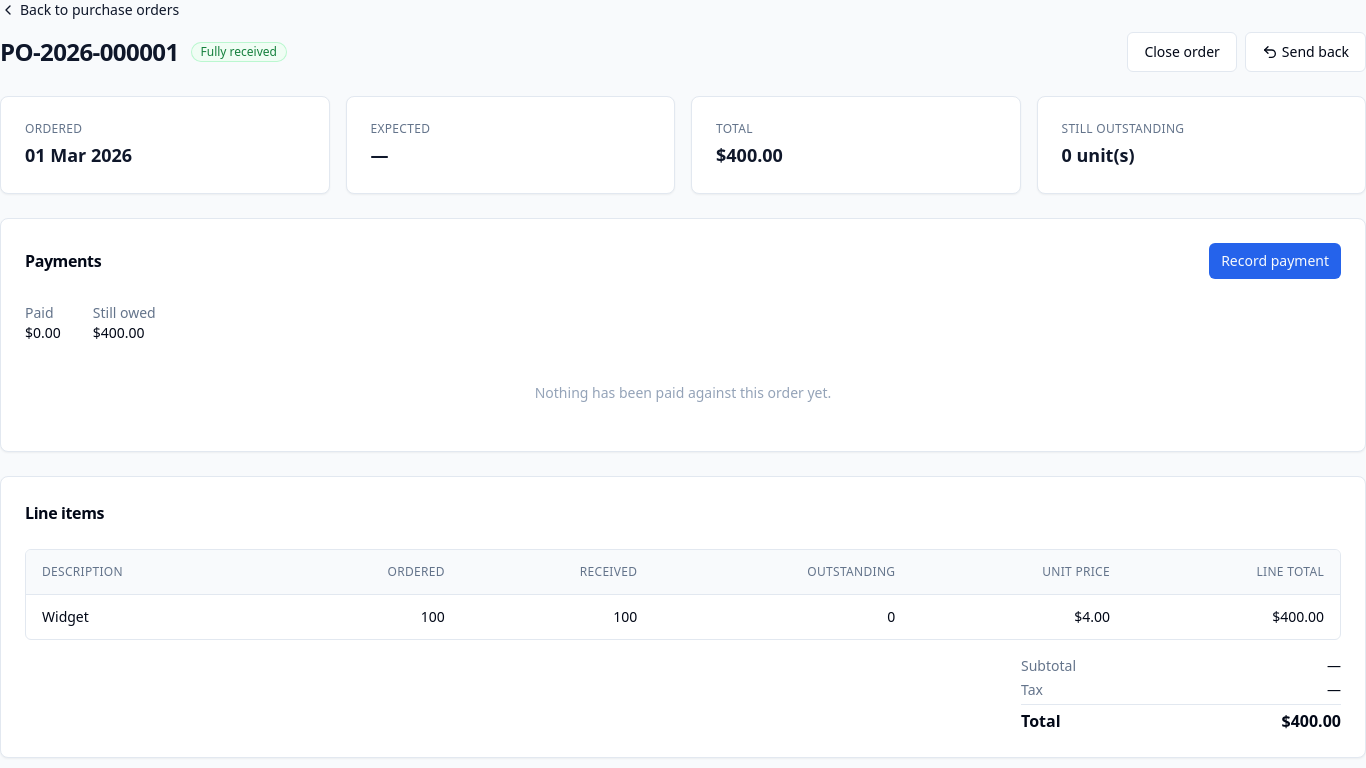
Scenario: sending goods back › starts at zero rather than pre-filling the whole delivery
Click the button "Send back": (1305, 52) top-left (1245, 32), bottom-right (1365, 72)
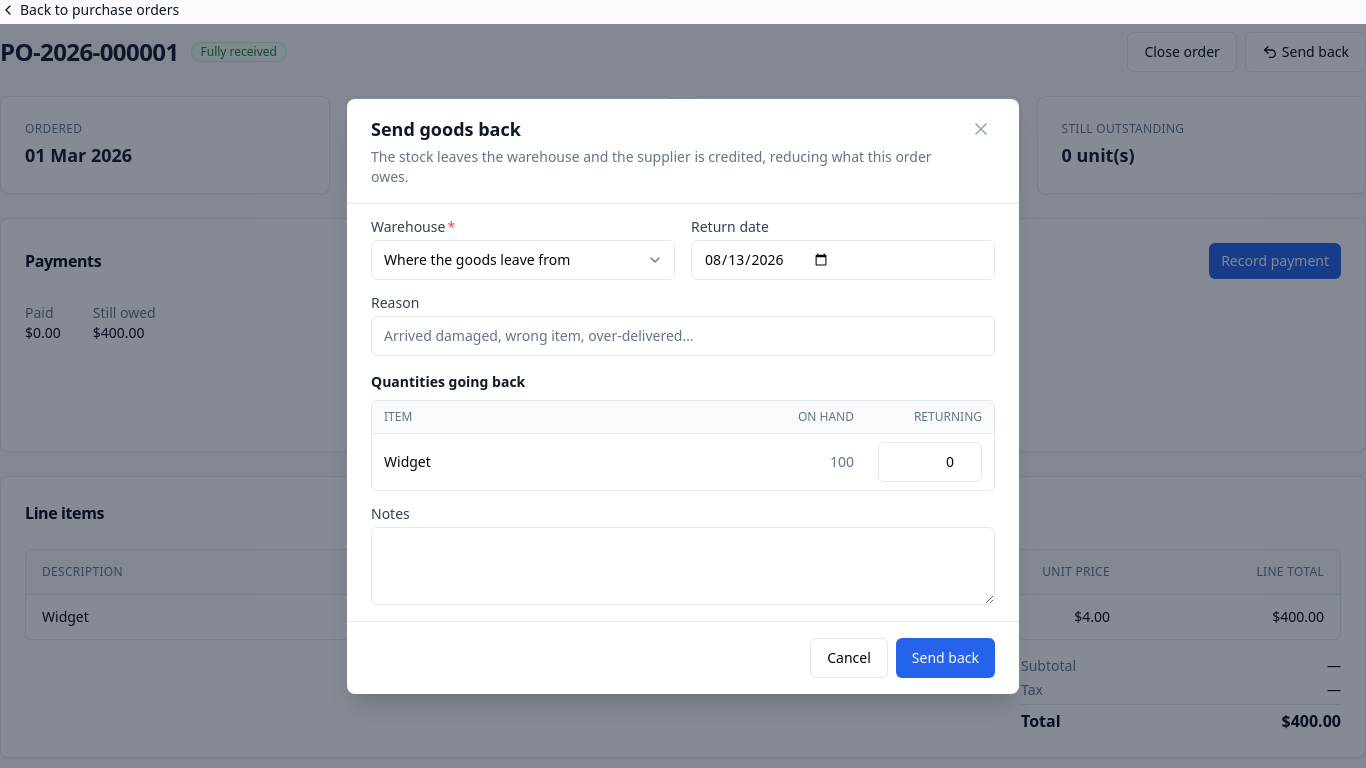
Expected: the number field holds "0", top-left (878, 442), bottom-right (982, 482)
Expected: the text "100" is shown, top-left (754, 433), bottom-right (866, 490)
